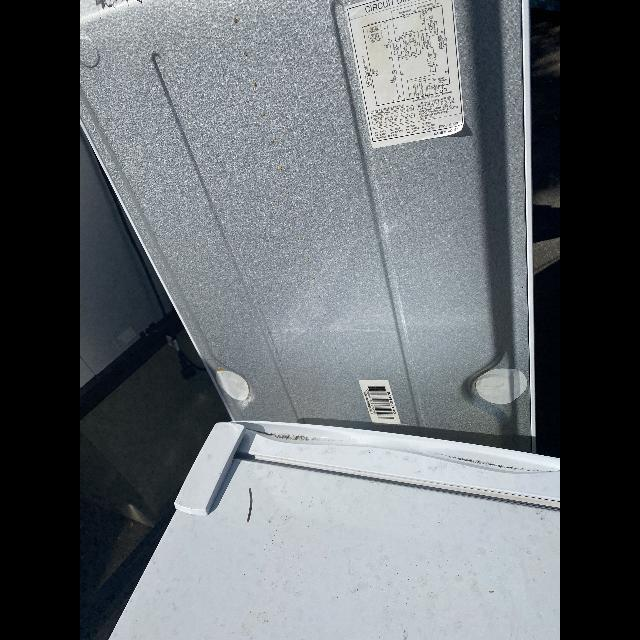Ferrous Metal: (108, 422, 560, 640)
Galvanized Steel: (80, 0, 532, 452)
